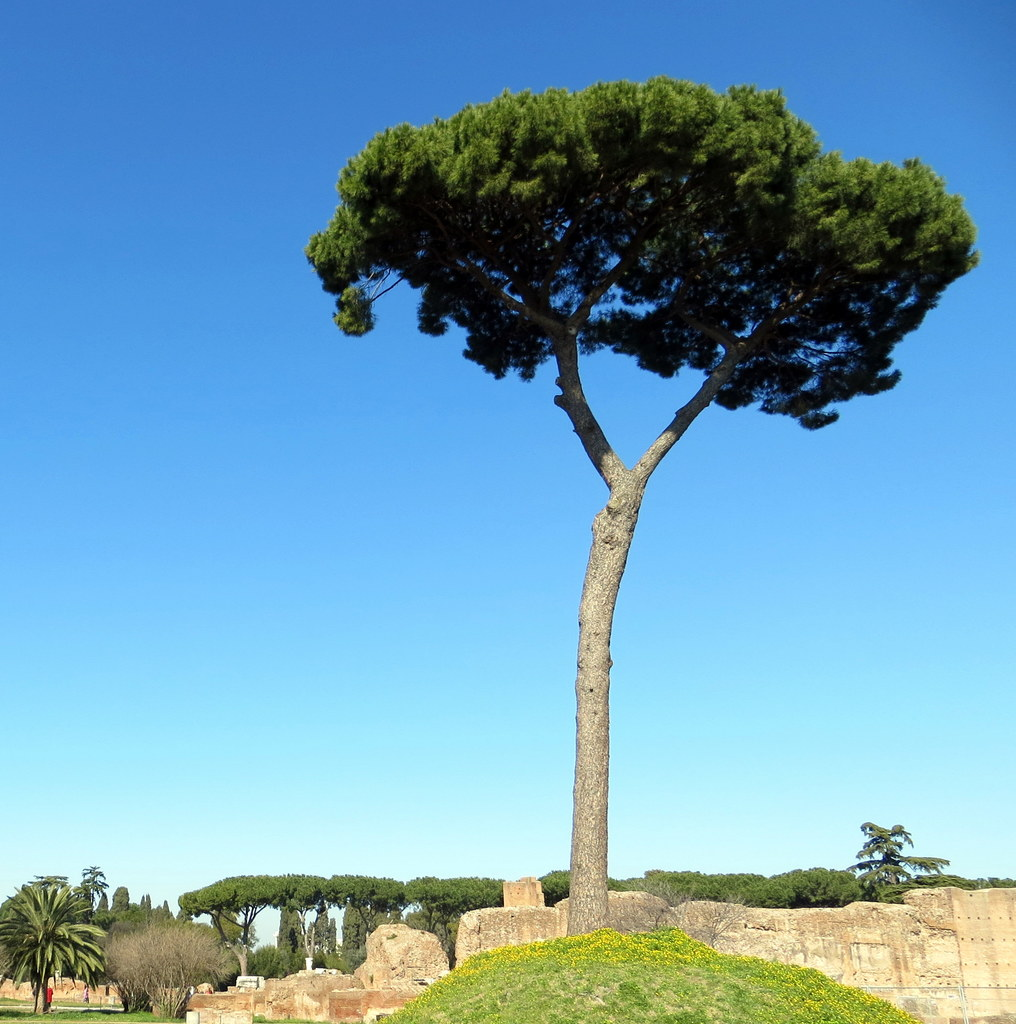Tree: (300, 75, 982, 938), (0, 823, 1016, 997)
